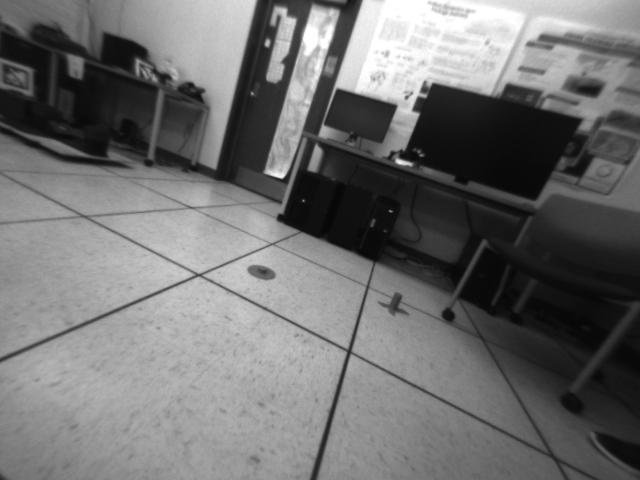X: (376, 291, 413, 317)
